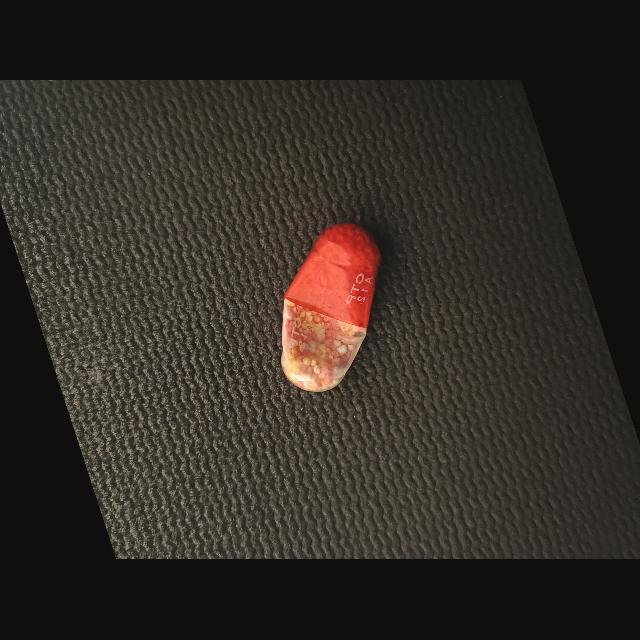Defective Capsule: (281, 224, 381, 393)
